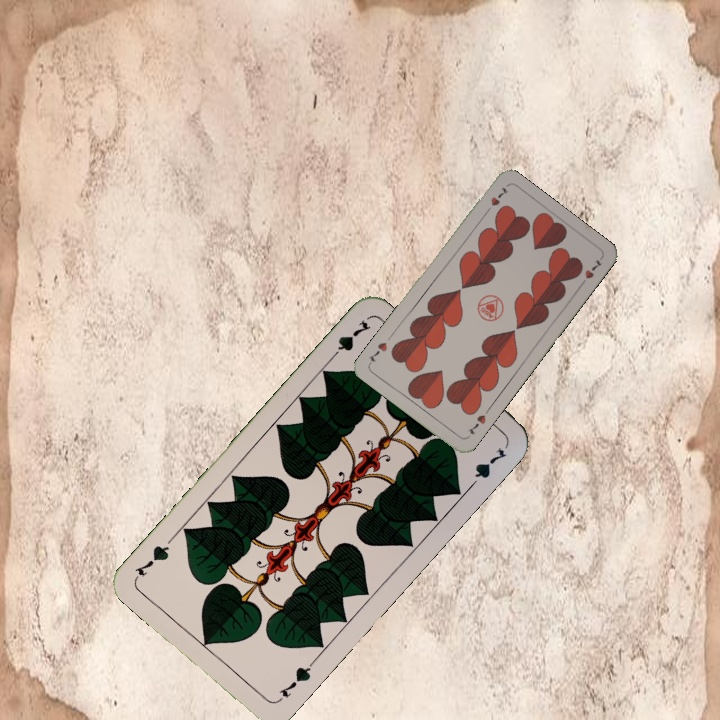G7: (325, 316, 374, 364), (272, 657, 316, 706)
H7: (480, 183, 511, 217), (464, 410, 489, 437)
